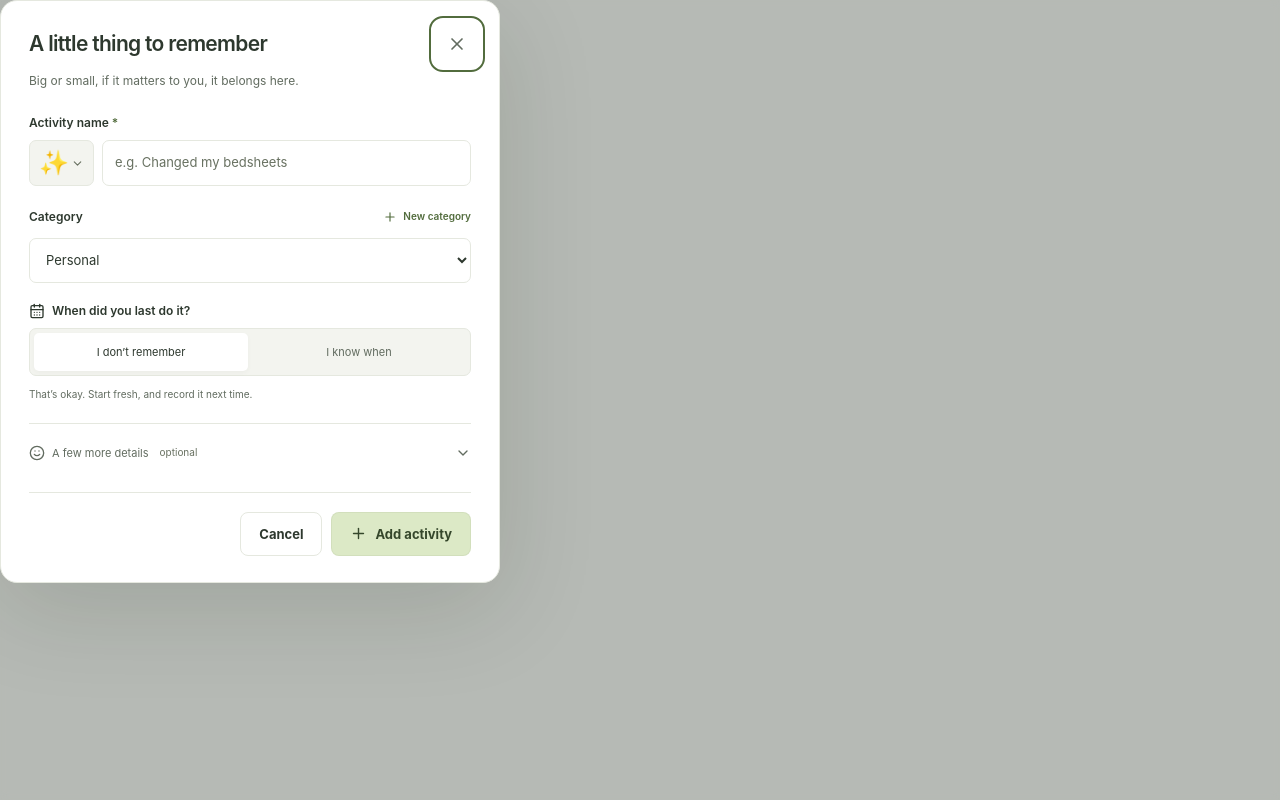
Test: Accessible activity form › keeps advanced fields hidden until requested
The image size is (1280, 800).
Expected: the field labelled "Personal notes" is not shown
Click the button "A few more details optional" at (100, 453), box [29, 423, 471, 467]
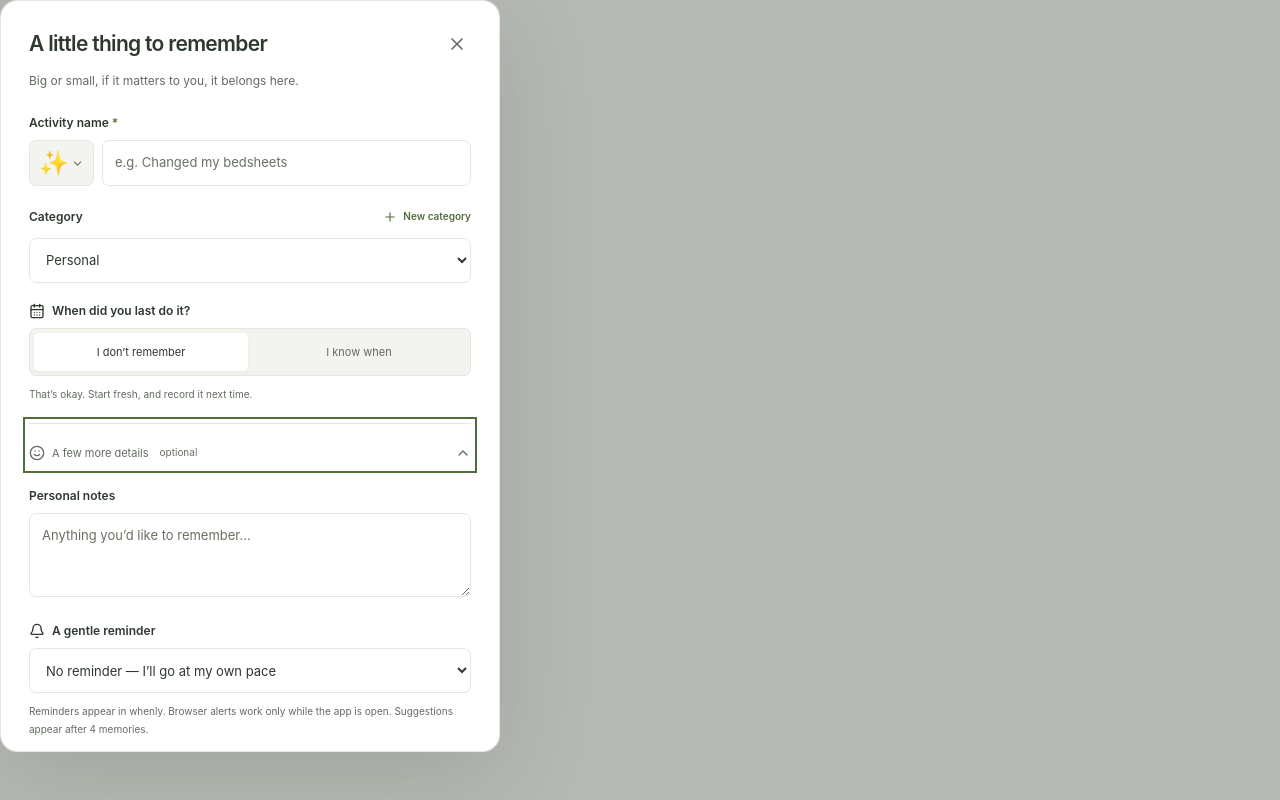
Now the text box labelled "Personal notes" is shown, box [29, 513, 471, 597]
Now the dropdown labelled "A gentle reminder" shows "No reminder — I’ll go at my own pace", box [29, 648, 471, 693]
